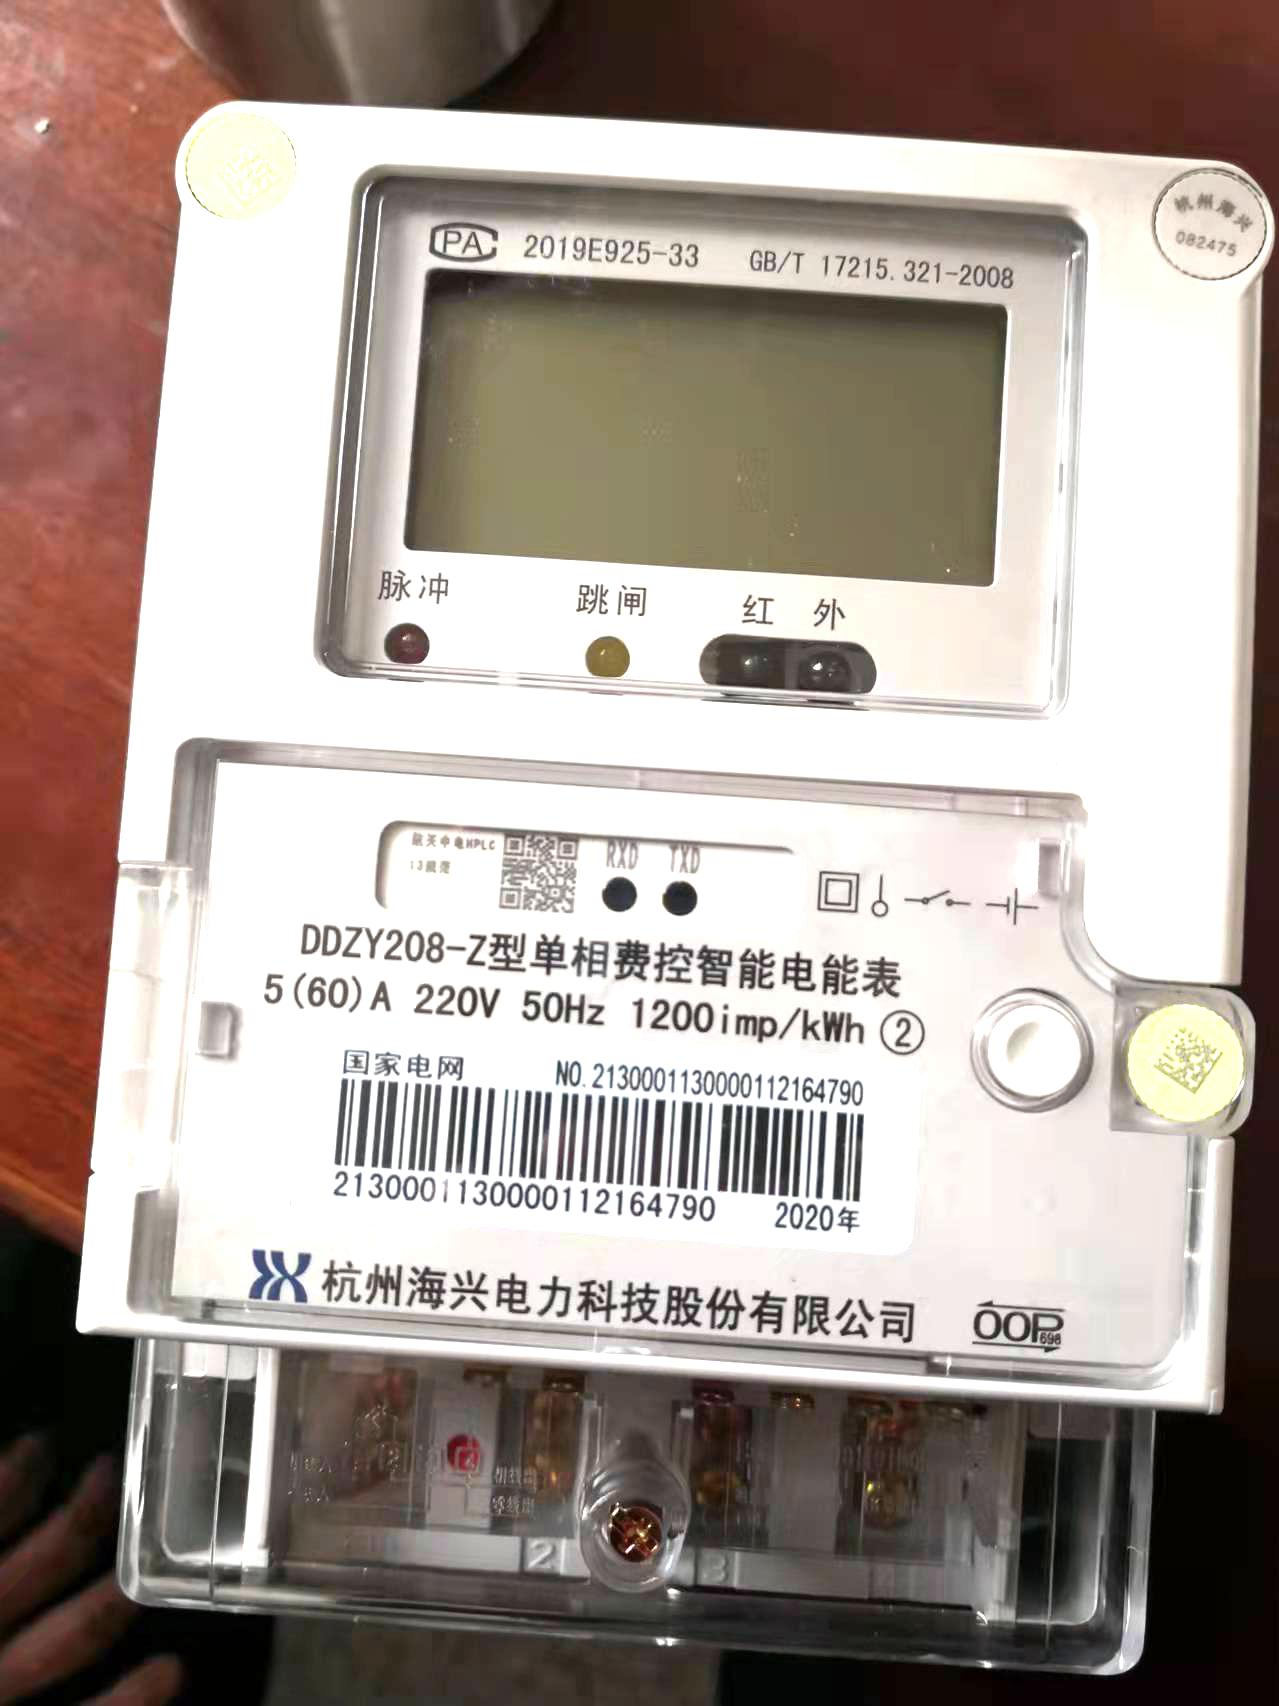digital: (69, 106, 1270, 1402)
